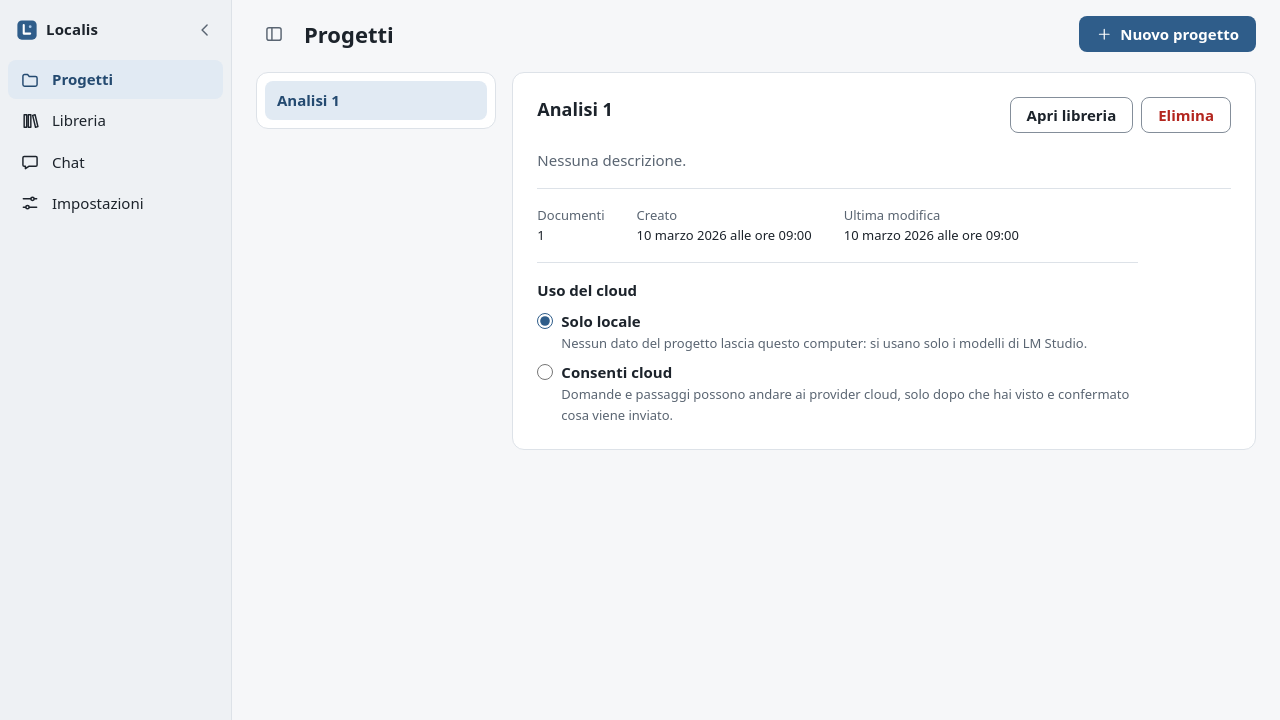
Test: citation navigation › opens the Library on the cited document and block, shows the passage and returns to the chat
The image size is (1280, 720).
Click the button "Chat" at (116, 162), box [8,142,223,182]
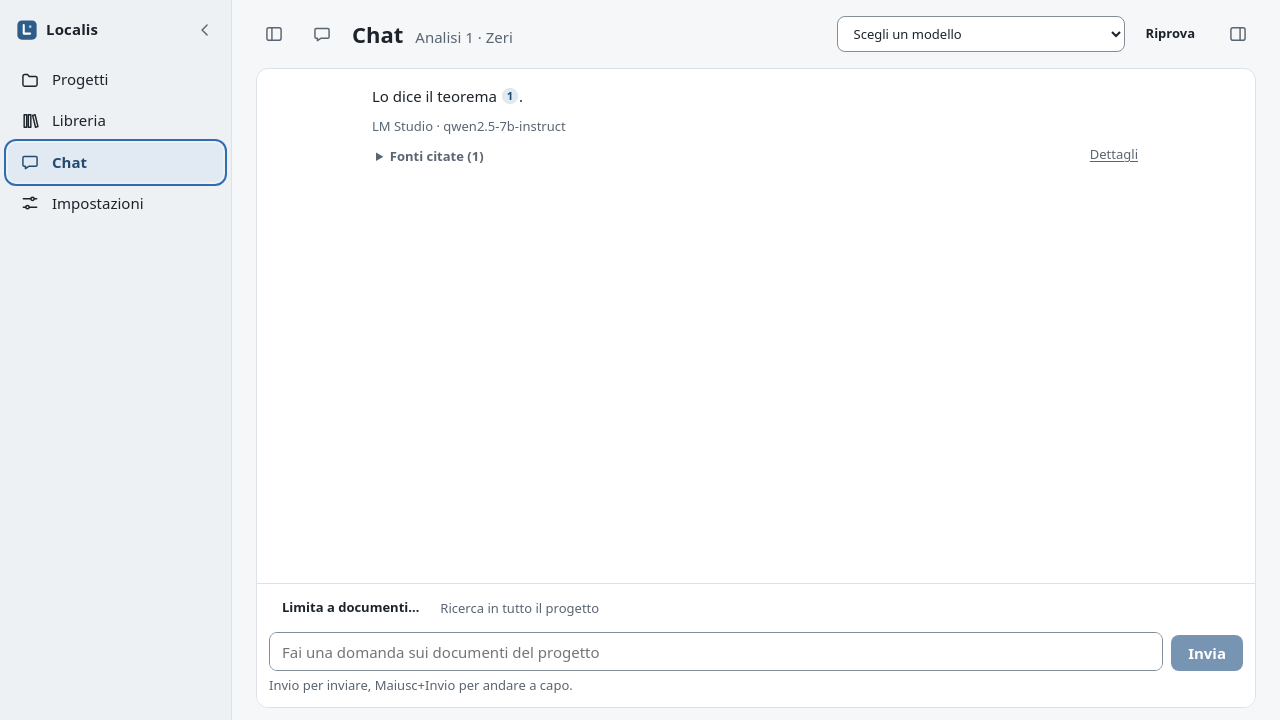
Click the button named "Fonte 1: «Appunti.md», blocco 2" at (510, 96), box [502,88,518,104]
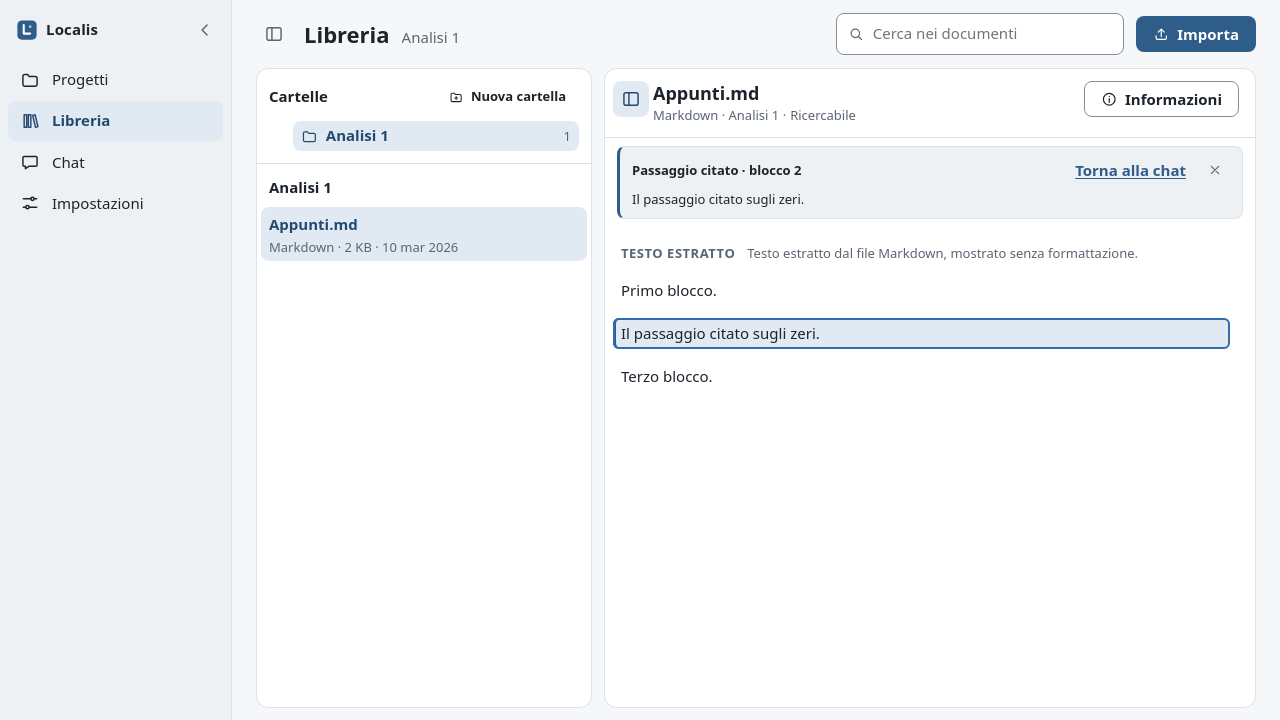
Check: the heading "Libreria" is shown, box [304,20,390,48]
Check: the heading "Appunti.md" is shown, box [653,81,759,105]
Check: the text "Il passaggio citato sugli zeri." below "Passaggio citato ·" is shown, box [632,190,804,208]
Click the button "Torna alla chat" at (1131, 170), box [1073,159,1188,182]
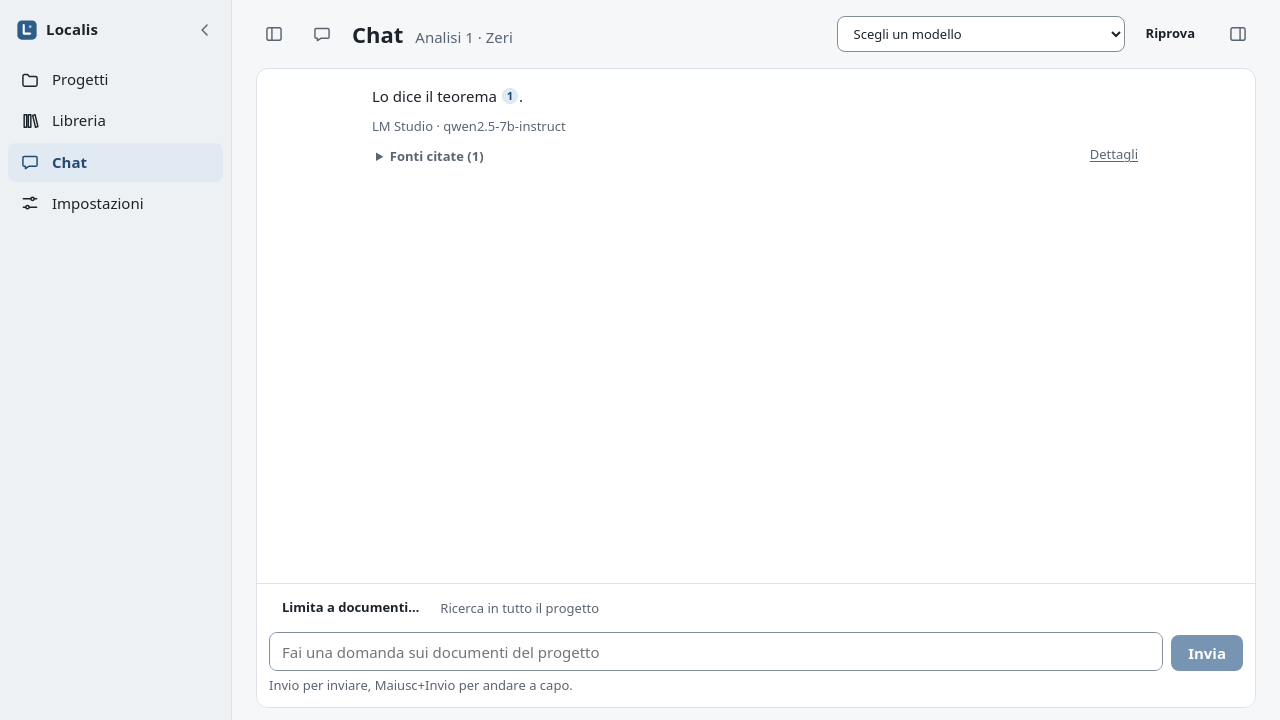
Check: the button named "Fonte 1: «Appunti.md», blocco 2" is shown, box [502,88,518,104]
Check: the heading "Chat" is shown, box [352,20,403,48]
